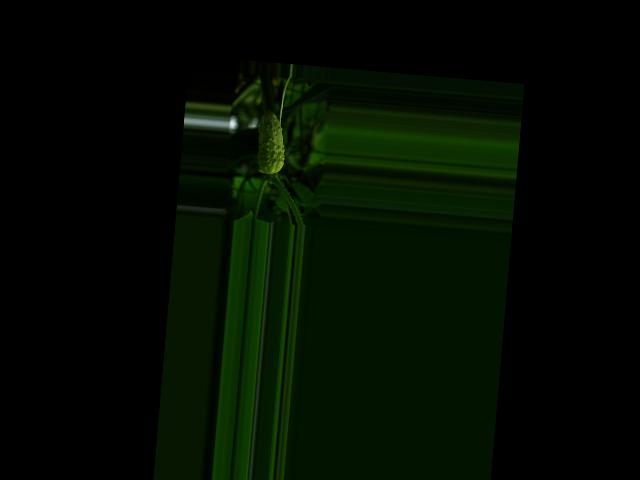cucumber: (256, 108, 289, 175)
